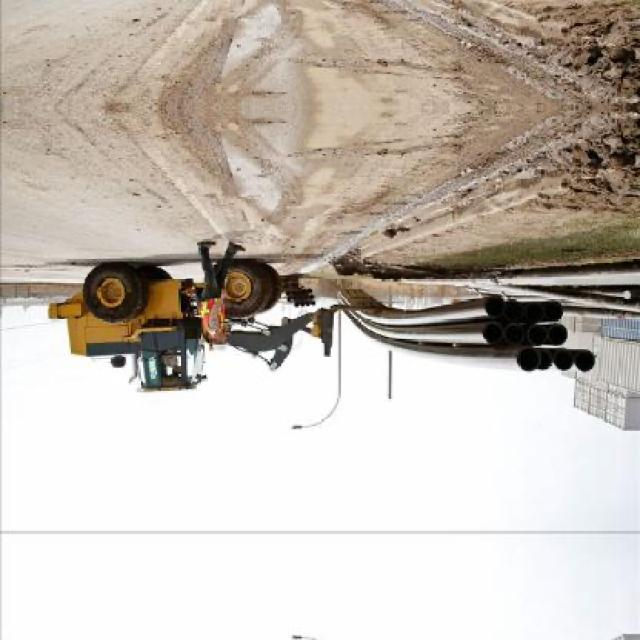con casco: (200, 329, 232, 351)
